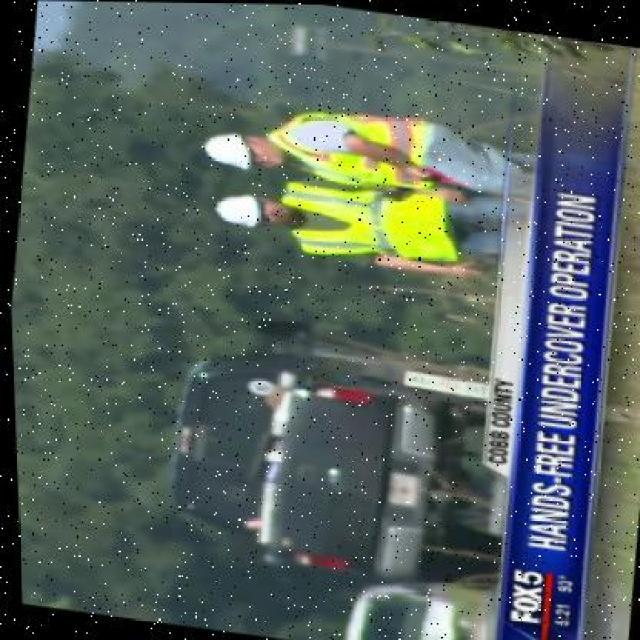helmet: (199, 125, 265, 172), (205, 186, 267, 232)
vest: (275, 166, 479, 268), (277, 102, 445, 192)
